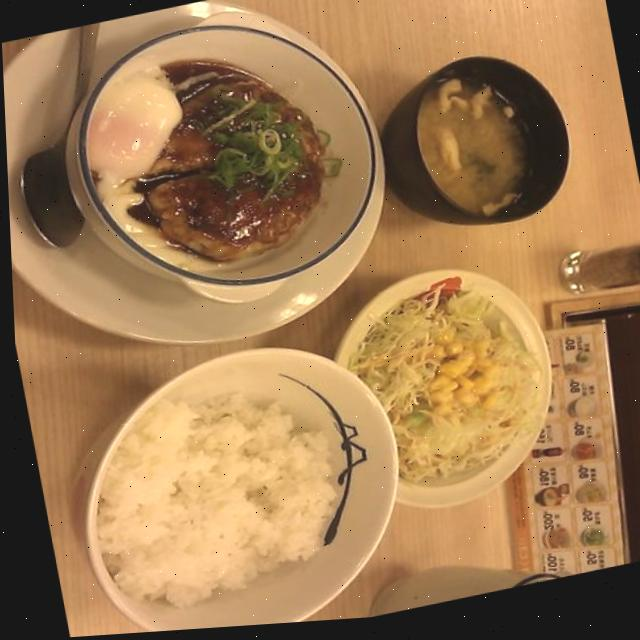汤锅炖物: (368, 38, 588, 256)
米饭主食: (52, 322, 426, 638)
蔬菜料理: (323, 254, 587, 531)
